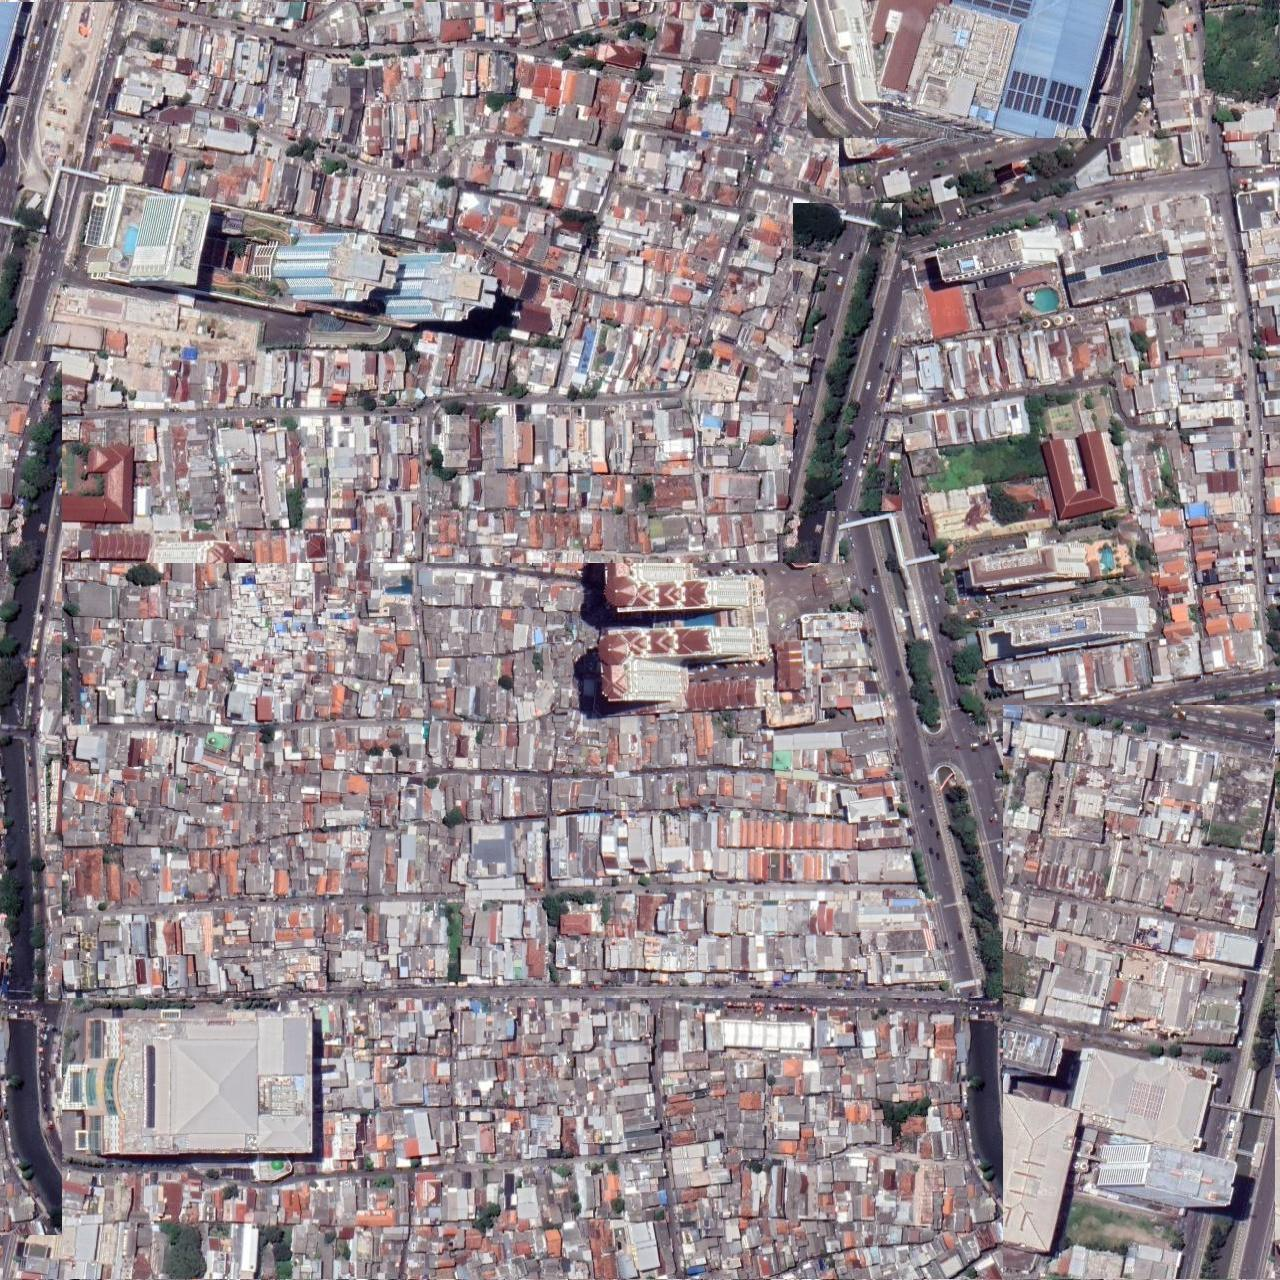greenery: (794, 203, 901, 511), (934, 781, 1030, 1069), (1205, 0, 1280, 105), (925, 431, 1046, 490)
house: (0, 2, 839, 563), (64, 531, 955, 987), (864, 0, 1280, 740), (4, 998, 1020, 1280), (1005, 706, 1275, 1280), (808, 0, 1123, 138)
water: (0, 365, 62, 1234)
